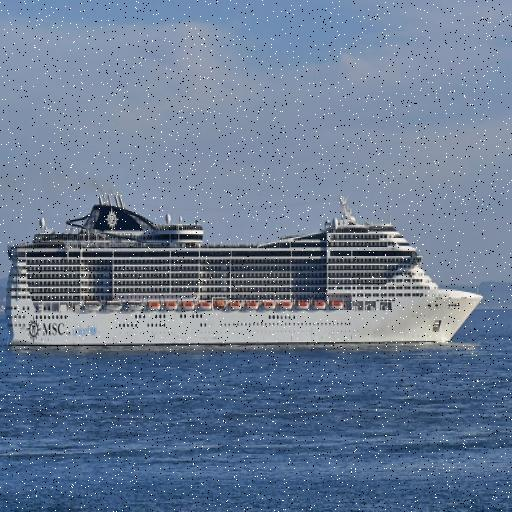cruises: (2, 191, 486, 356)
